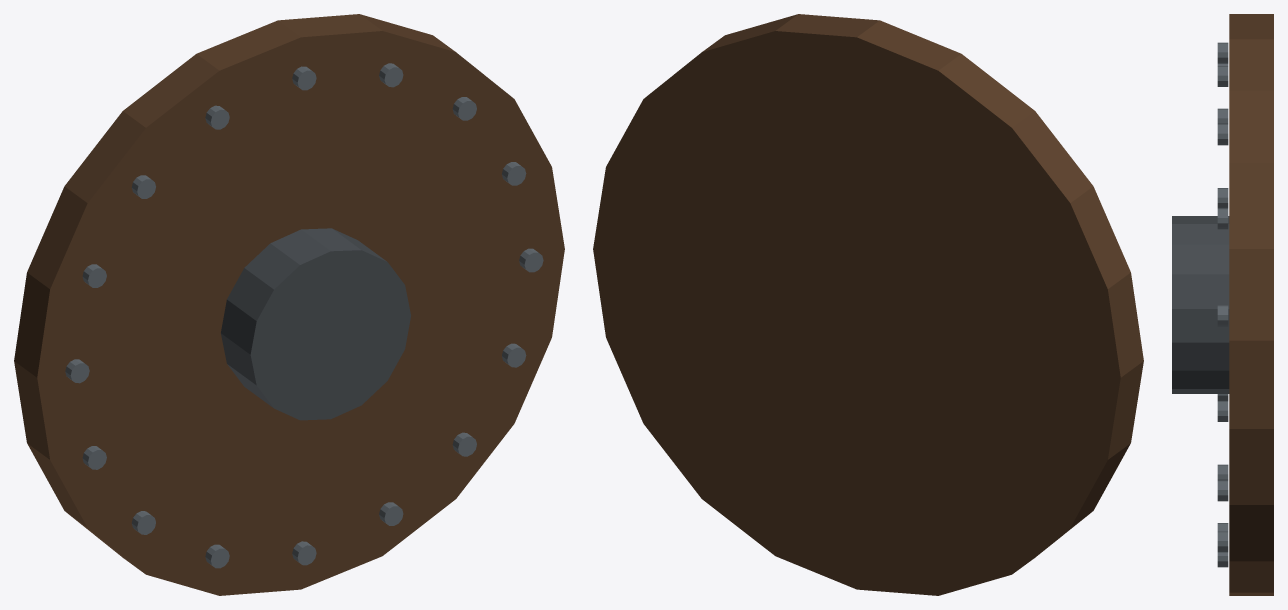
File: SM_RoundShield.obj
3 renders of one model, left to right at view 1: azimuth 30°, elevation 25°; view 2: azimuth 150°, elevation 25°; view 3: azimuth 270°, elevation 25°, orthographic. The views are drawn at different scales.
Bounding box in the file's own units: 0.92 × 0.92 × 0.16.
